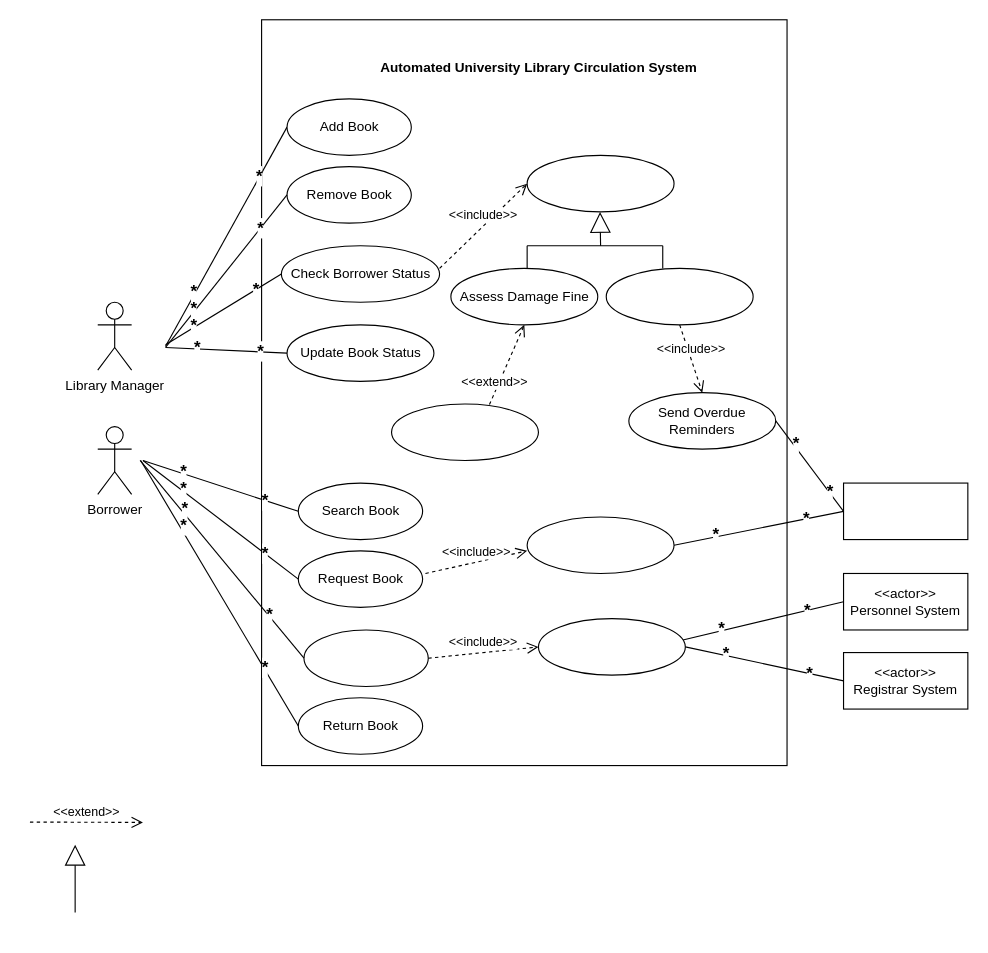
Some shapes in this 988 by 953 pixel diagram are drawn without their labels. Here are the shapes that lost their labels. From the top down, the centre of each, then its label:
[600,183]: Assess Fine
[679,296]: Assess Overdue Fine
[464,431]: Evaluate Book Repair
[905,511]: <<actor>> Email Service
[600,544]: Notify Availability
[365,657]: Check Out Book
[611,646]: Validate Borrowing
